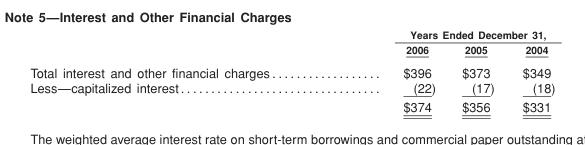table: (29, 28, 554, 114)
table column: (29, 28, 335, 114), (335, 28, 448, 114), (448, 28, 507, 114), (507, 28, 554, 114)
table column header: (29, 28, 554, 59)
table row: (29, 59, 554, 79), (29, 41, 554, 59), (29, 79, 554, 97), (29, 97, 554, 114), (29, 28, 554, 41)
table spanning cell: (335, 28, 554, 41)
